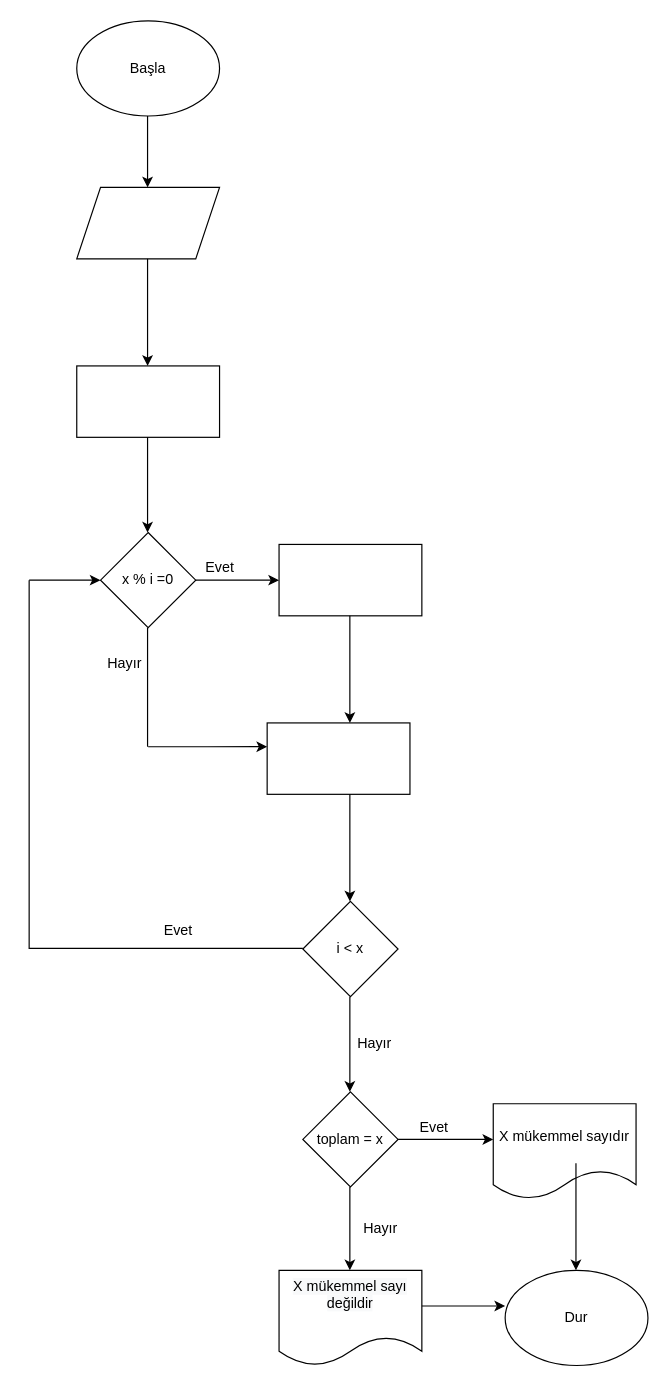
This 669x1386 diagram has some shape labels left out. The shapes that lost their labels are listed below. From the top down, each one's box as (x1, y1, x2, y2) in pixels, then its label:
(76, 186, 220, 259): Bir x sayısı giriniz.
(76, 365, 220, 437): i=1, toplam=0
(278, 543, 422, 616): toplam += i
(266, 722, 410, 794): i++
